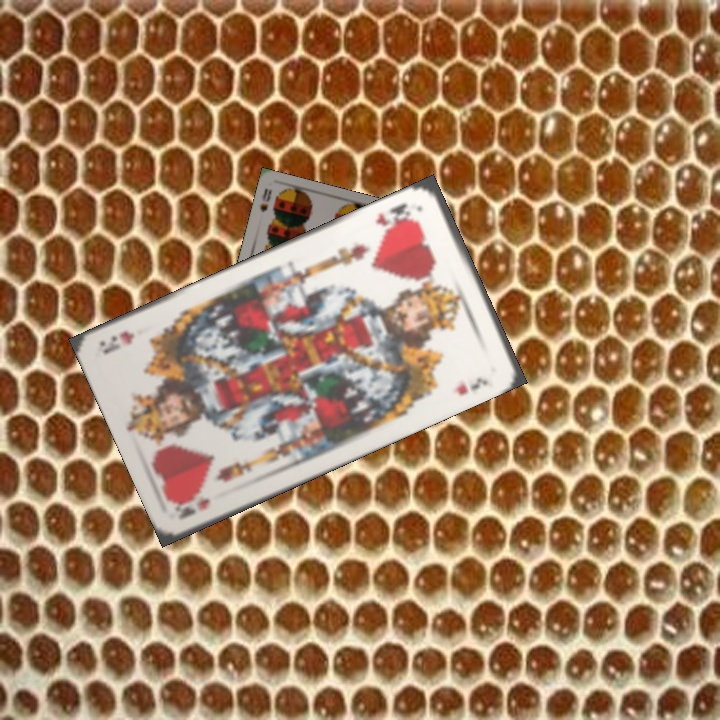HK: (371, 198, 415, 233), (175, 491, 213, 521)
S8: (256, 184, 274, 215)
